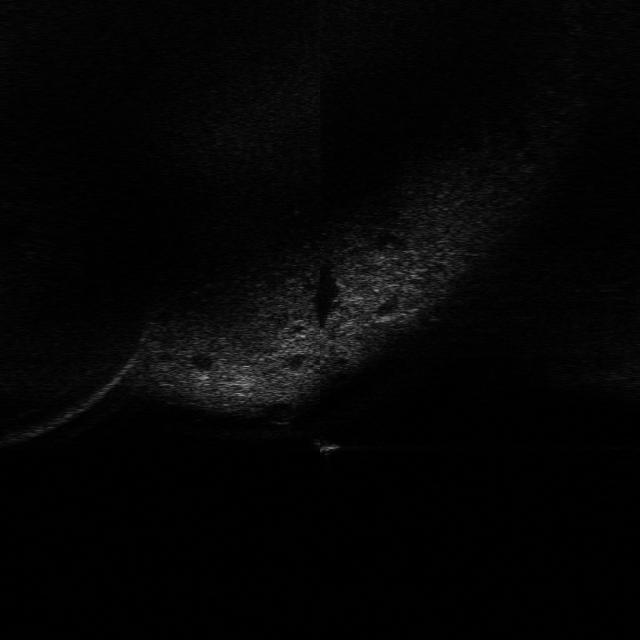cube: (304, 433, 344, 455)
